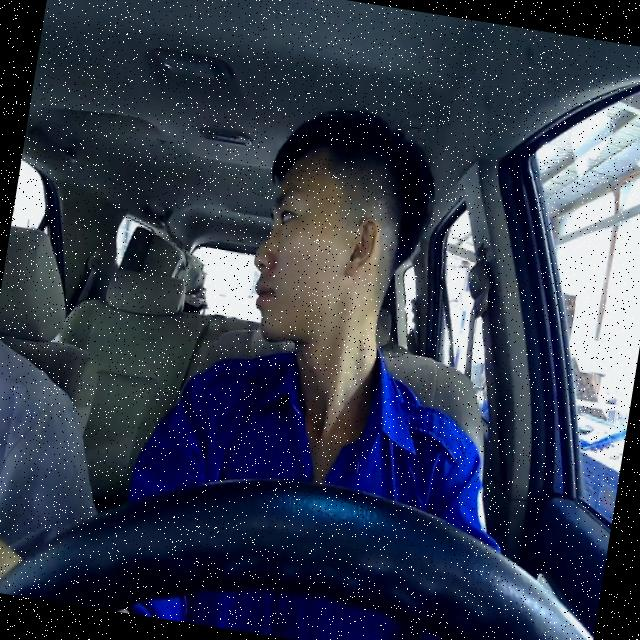seeing_left: (238, 134, 394, 358)
